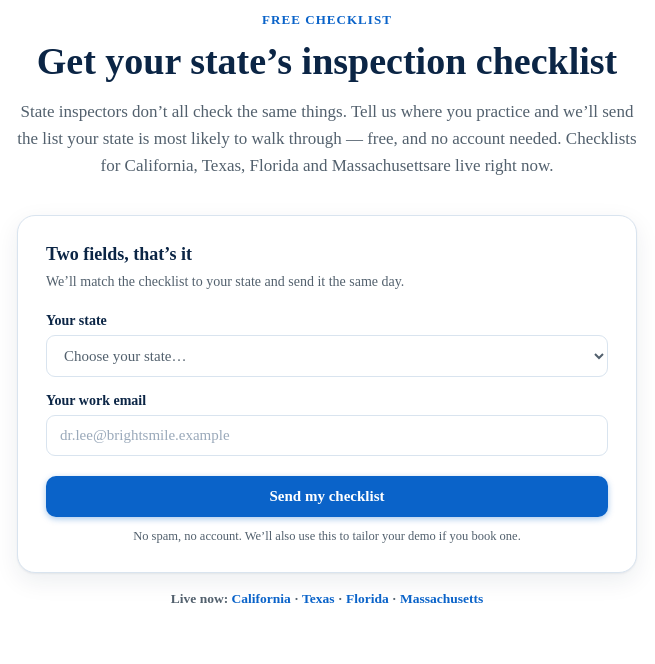
it: ChecklistCTA › validates an empty submission
Click the button "Send my checklist" at (327, 496), box [46,476,608,517]
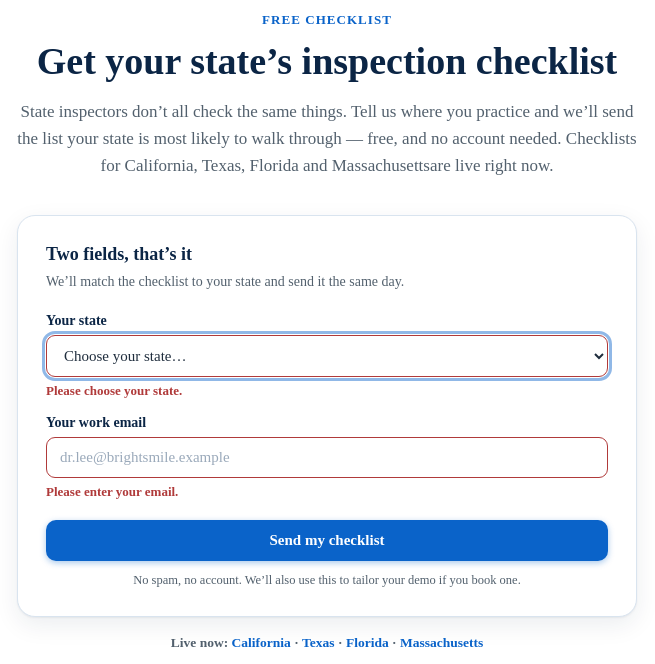
Check: the message "Please choose your state." is shown, box [46,383,182,398]
Check: the message "Please enter your email." is shown, box [46,484,178,499]
